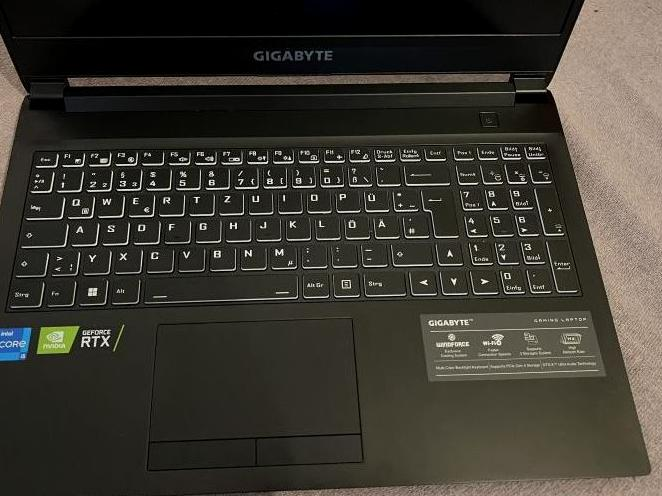0: (318, 162, 343, 187)
1: (53, 166, 81, 191)
2: (83, 166, 112, 190)
3: (113, 165, 141, 190)
4: (141, 164, 170, 189)
5: (172, 164, 199, 188)
6: (202, 164, 228, 189)
7: (231, 164, 257, 187)
8: (261, 163, 285, 187)
9: (289, 163, 314, 186)
a: (67, 218, 97, 245)
accent: (374, 162, 399, 185)
ae: (372, 213, 399, 238)
alt-left: (109, 273, 139, 303)
altgr-right: (300, 270, 328, 298)
b: (207, 244, 235, 270)
c: (144, 245, 172, 271)
caret: (26, 167, 52, 191)
comma: (299, 242, 326, 267)
d: (129, 217, 158, 243)
del: (402, 160, 449, 184)
e: (125, 190, 153, 216)
enter: (419, 184, 455, 235)
f: (160, 217, 189, 242)
g: (192, 217, 219, 241)
h: (222, 216, 249, 240)
hash: (401, 210, 429, 237)
i: (276, 188, 301, 212)
j: (252, 214, 279, 240)
k: (284, 215, 309, 239)
keyboard: (1, 134, 586, 313)
l: (313, 214, 339, 239)
less: (47, 246, 78, 276)
m: (268, 243, 296, 268)
minus: (359, 240, 385, 266)
n: (238, 244, 265, 269)
o: (305, 188, 330, 212)
oe: (342, 213, 368, 238)
p: (334, 188, 359, 211)
plus: (391, 186, 418, 211)
point: (329, 242, 356, 266)
q: (62, 191, 93, 218)
r: (156, 191, 183, 215)
s: (98, 217, 127, 244)
shift-left: (11, 247, 47, 276)
shift-lock: (18, 218, 66, 246)
shift-right: (388, 239, 431, 265)
space: (143, 272, 296, 300)
ss: (346, 162, 370, 186)
strg-left: (6, 278, 44, 309)
strg-right: (361, 268, 406, 295)
t: (186, 190, 213, 214)
tab: (23, 191, 64, 217)
u: (246, 189, 272, 213)
ue: (362, 187, 388, 211)
v: (176, 244, 204, 271)
w: (94, 190, 123, 216)
x: (112, 245, 141, 272)
y: (79, 245, 109, 274)
z: (216, 190, 243, 214)
